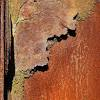rust: (22, 65, 98, 99), (46, 28, 97, 75), (1, 2, 13, 100), (74, 6, 98, 40)
